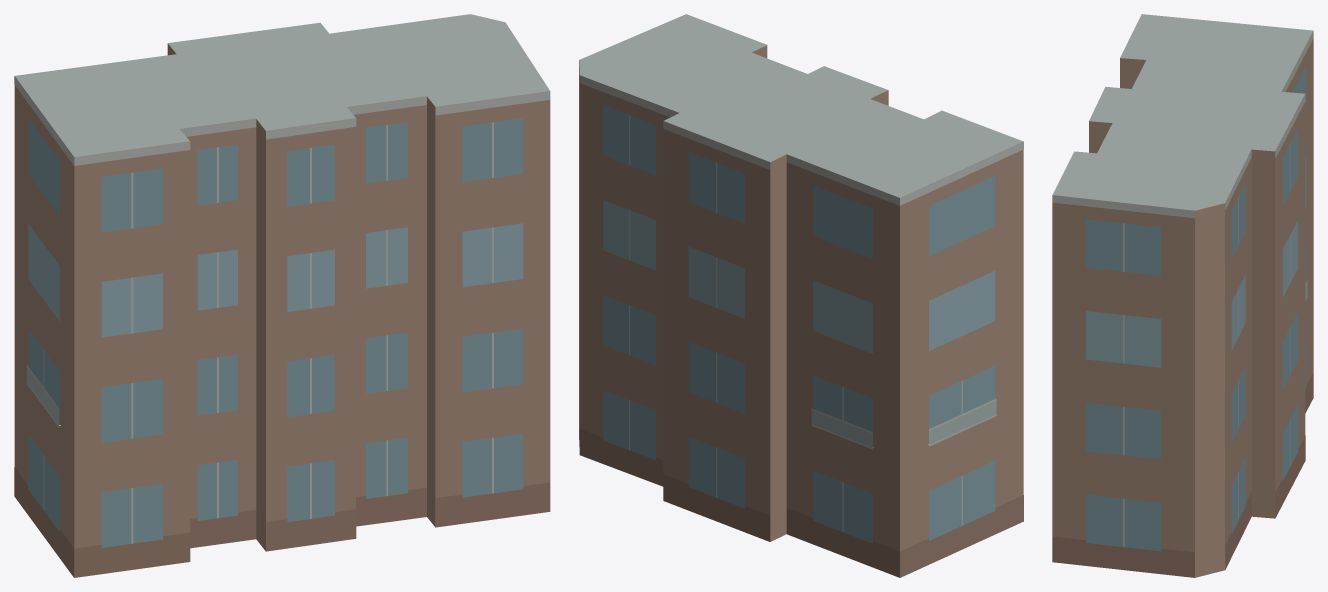
Rendered from survey-upis-32644401.glb.
The picture shows the model from 3 angles, left to right: view 1: azimuth 30°, elevation 25°; view 2: azimuth 150°, elevation 25°; view 3: azimuth 270°, elevation 25°; orthographic projection. The views are drawn at different scales.
Parts seen in each view (by area): view 1: survey-upis-32644401.tmp; view 2: survey-upis-32644401.tmp; view 3: survey-upis-32644401.tmp.
Part boxes in pixels (bbox=[...]): survey-upis-32644401.tmp: bbox=[14, 14, 550, 577]; survey-upis-32644401.tmp: bbox=[579, 14, 1023, 577]; survey-upis-32644401.tmp: bbox=[1052, 14, 1313, 577].
Bounding box in the file's own units: 13.57 × 11.8 × 7.62.
